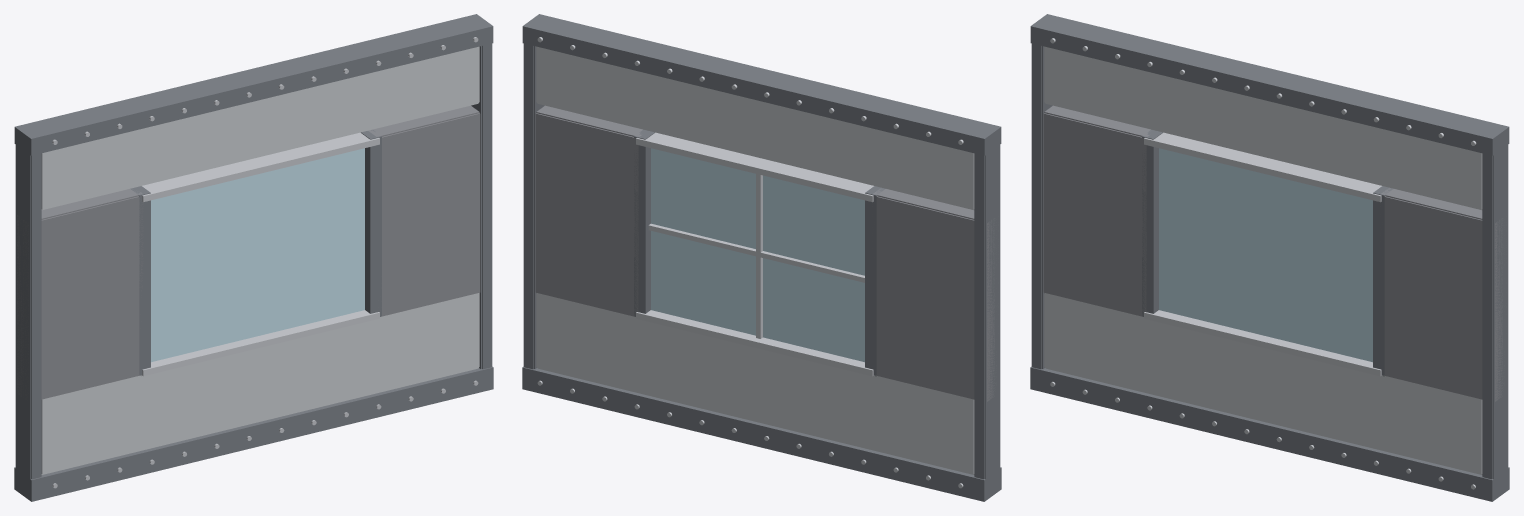
Rendered from base_wall_window.fbx.
The picture shows the model from 3 angles, left to right: view 1: azimuth 30°, elevation 25°; view 2: azimuth 150°, elevation 25°; view 3: azimuth 330°, elevation 25°; orthographic projection.
Parts seen in each view (by area): view 1: base_wall_window; view 2: base_wall_window; view 3: base_wall_window.
Part boxes in pixels (bbox=[...]): base_wall_window: bbox=[14, 14, 493, 501]; base_wall_window: bbox=[522, 14, 1001, 501]; base_wall_window: bbox=[1030, 14, 1509, 501].
Bounding box in the file's own units: 4 × 3 × 0.29.
